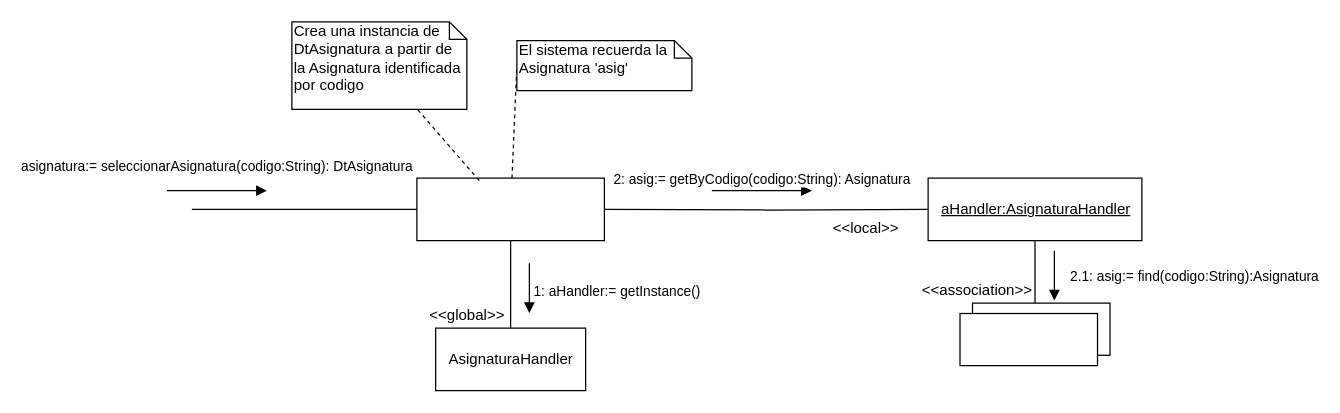
Some shapes in this 1340 by 413 pixel diagram are drawn without their labels. The box of each missing label's shape, as (x1, y1, x2, y2) in pixels:
:Asignatura: (959, 312, 1098, 366)
:AsignaturaClaseController: (416, 177, 604, 241)
